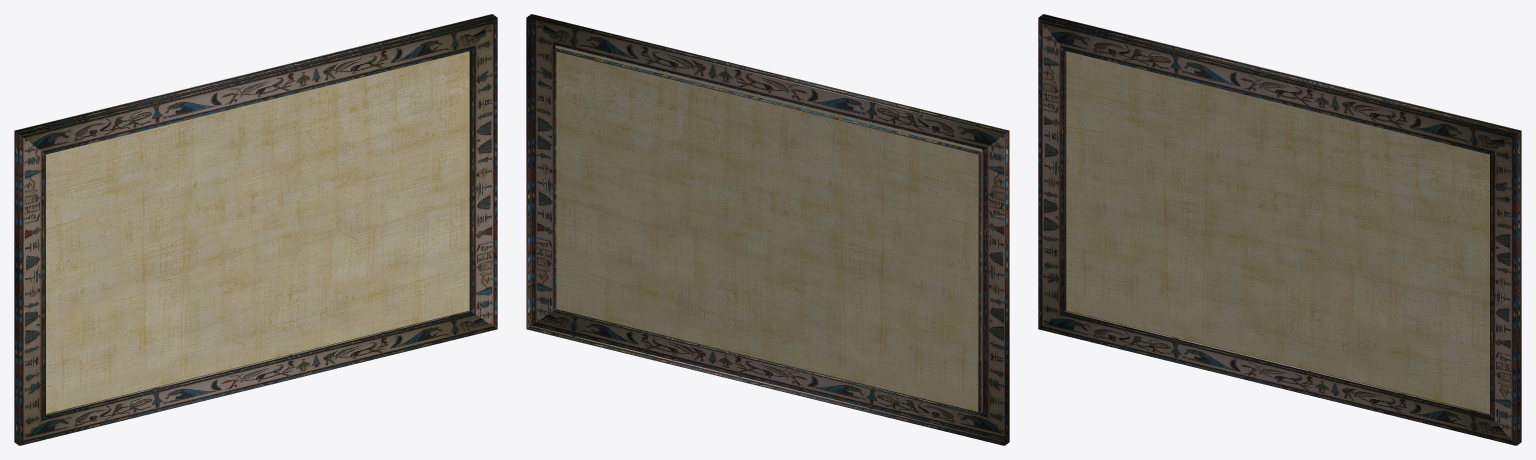
Rendered from Puzzle Beetle Display.fbx.
The picture shows the model from 3 angles, left to right: view 1: azimuth 30°, elevation 25°; view 2: azimuth 150°, elevation 25°; view 3: azimuth 330°, elevation 25°; orthographic projection.
Parts seen in each view (by area): view 1: Puzzle 1 Display for Bettles, Puzzle 1 Display for Bettles.001; view 2: Puzzle 1 Display for Bettles, Puzzle 1 Display for Bettles.001; view 3: Puzzle 1 Display for Bettles, Puzzle 1 Display for Bettles.001.
Boxes of the visible parts, <box> form: Puzzle 1 Display for Bettles: <box>46,51,469,413</box>; Puzzle 1 Display for Bettles.001: <box>14,14,497,445</box>; Puzzle 1 Display for Bettles: <box>555,45,982,412</box>; Puzzle 1 Display for Bettles.001: <box>526,14,1009,445</box>; Puzzle 1 Display for Bettles: <box>1066,51,1489,413</box>; Puzzle 1 Display for Bettles.001: <box>1038,14,1521,445</box>.
Size of the model in its own units: 430 by 268 by 8.02.
